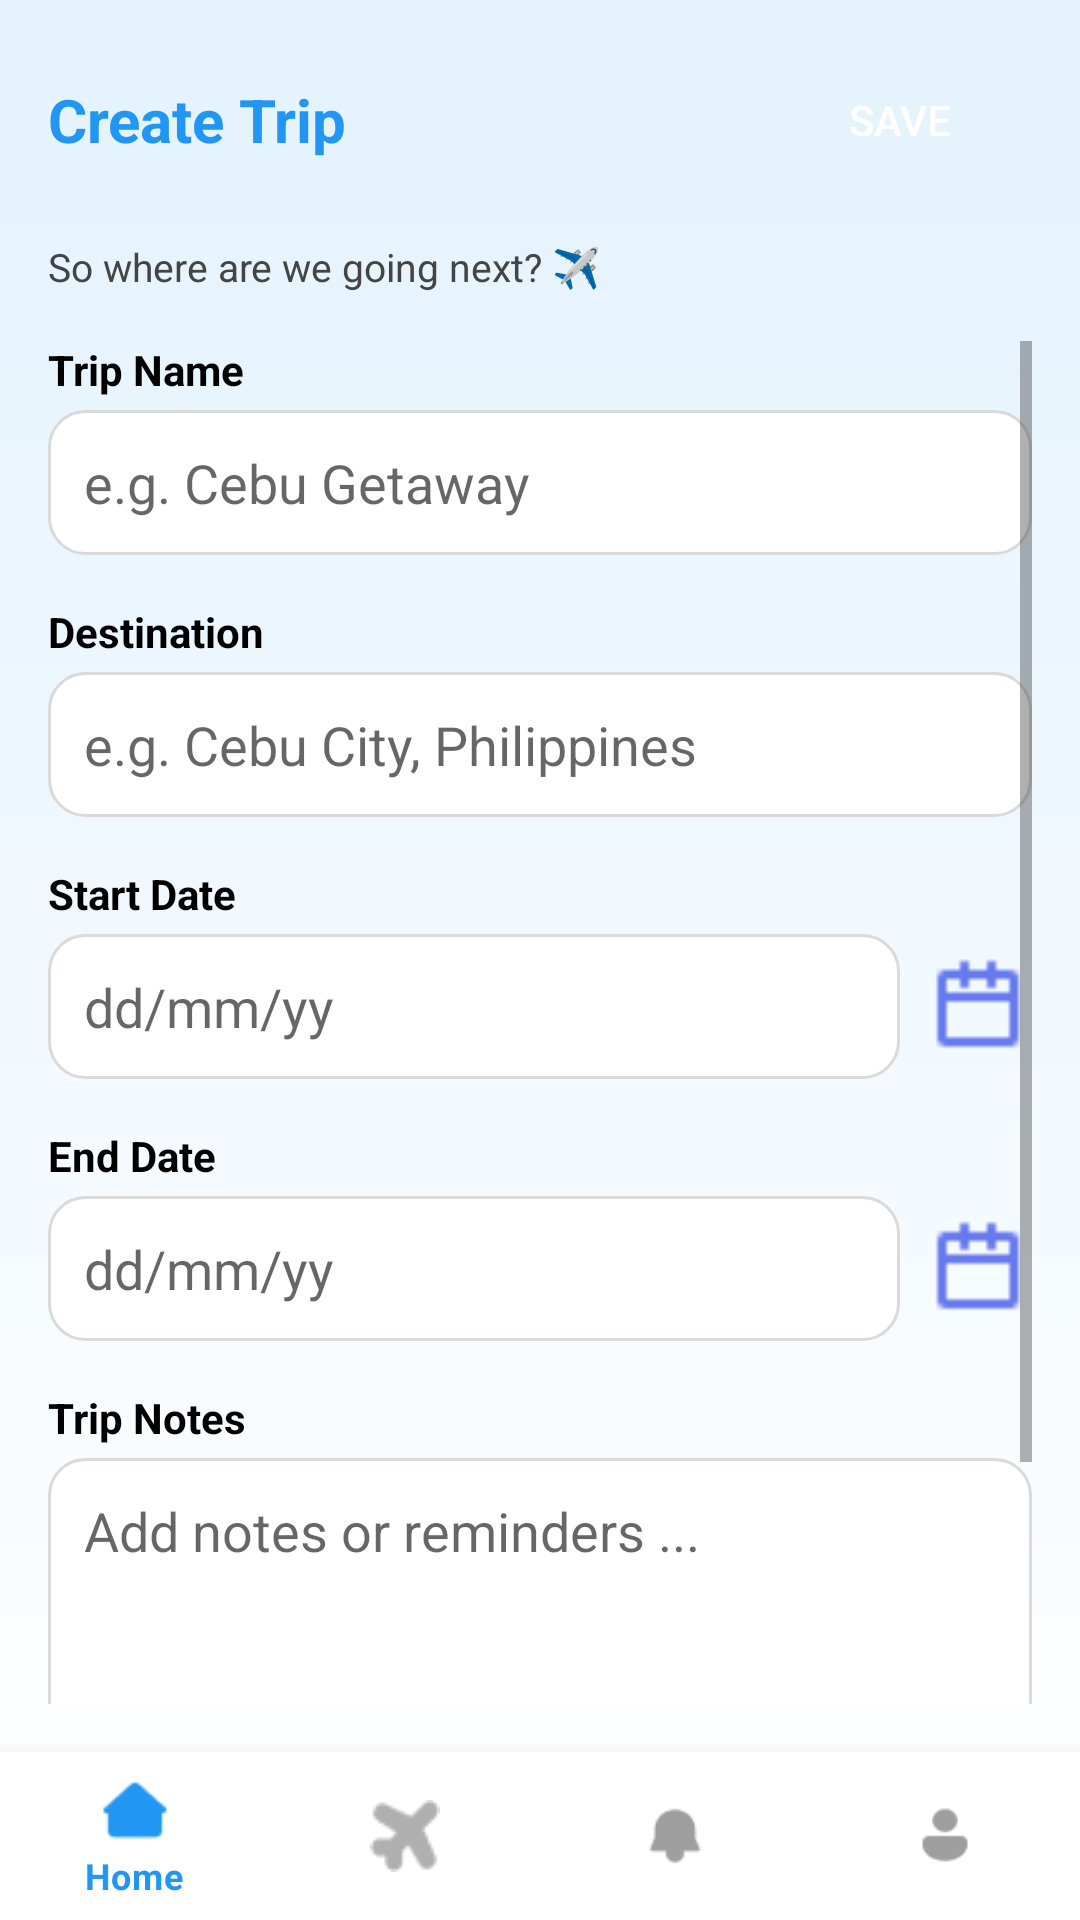

Icon bounding boxes for this 1080×1920 phone screenshot, format (x1, y1, x2, y2):
calendar: (936, 952, 1032, 1060), (936, 1214, 1032, 1322)
